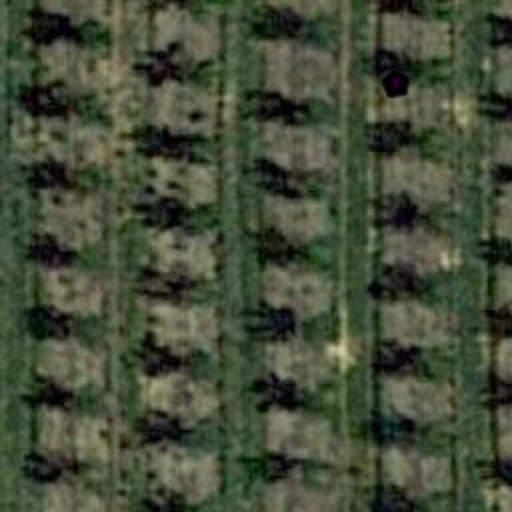pentagon: (376, 64, 416, 104)
